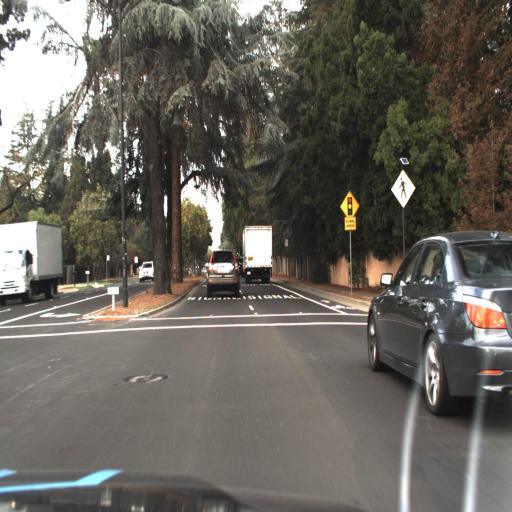car: (362, 218, 509, 433), (200, 240, 243, 307), (237, 221, 278, 288), (136, 254, 156, 284)
truck: (0, 224, 65, 306)
